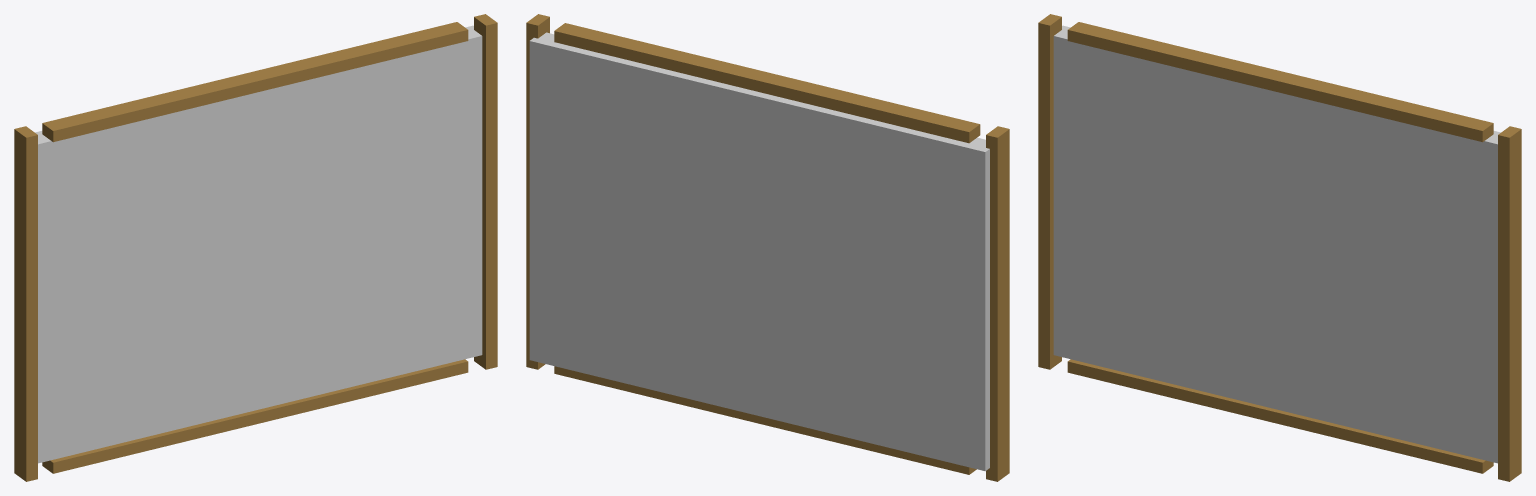
File: Cuadro sin dibujo marco diferente.fbx
The picture shows the model from 3 angles, left to right: view 1: azimuth 30°, elevation 25°; view 2: azimuth 150°, elevation 25°; view 3: azimuth 330°, elevation 25°; orthographic projection.
Parts seen in each view (by area): view 1: Cuadro sin dibujo (marco diferente); view 2: Cuadro sin dibujo (marco diferente); view 3: Cuadro sin dibujo (marco diferente).
Part boxes in pixels (x1,y1,x2,y2): Cuadro sin dibujo (marco diferente): (14, 14, 497, 481); Cuadro sin dibujo (marco diferente): (526, 14, 1009, 481); Cuadro sin dibujo (marco diferente): (1038, 14, 1521, 481).
Size of the model in its own units: 211 by 147 by 12.82.
